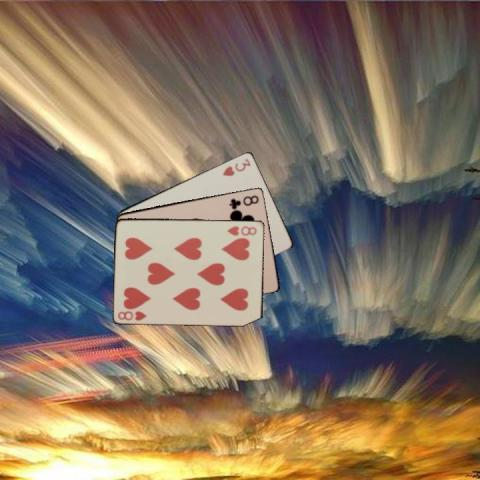3h: (219, 156, 252, 177)
8c: (227, 192, 260, 209)
8h: (225, 222, 258, 236), (115, 308, 148, 322)
